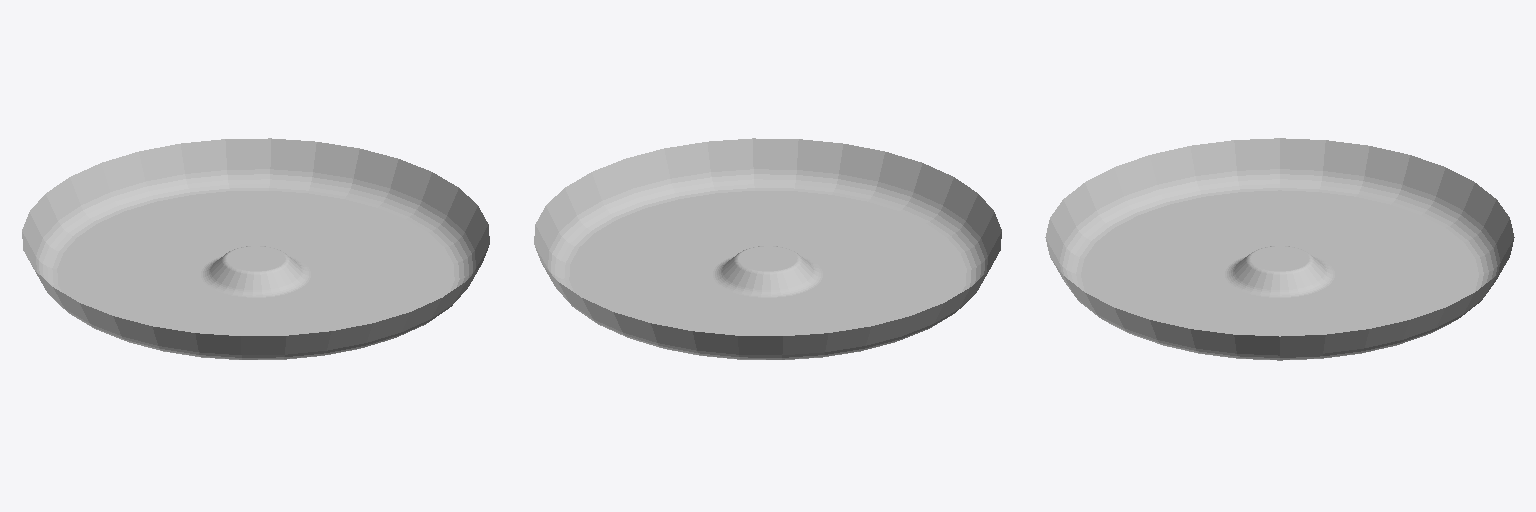
The model's file is StoreFloor.obj.
3 renders of one model, left to right at view 1: azimuth 30°, elevation 25°; view 2: azimuth 150°, elevation 25°; view 3: azimuth 270°, elevation 25°, orthographic.
Visible parts, largest first — view 1: Circle; view 2: Circle; view 3: Circle.
Part boxes in pixels (bbox=[...]): Circle: bbox=[22, 138, 489, 359]; Circle: bbox=[534, 138, 1001, 359]; Circle: bbox=[1045, 138, 1514, 360].
Bounding box in the file's own units: 400 × 35 × 400.